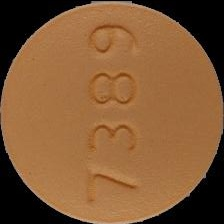0093-3098: (0, 0, 224, 224)
